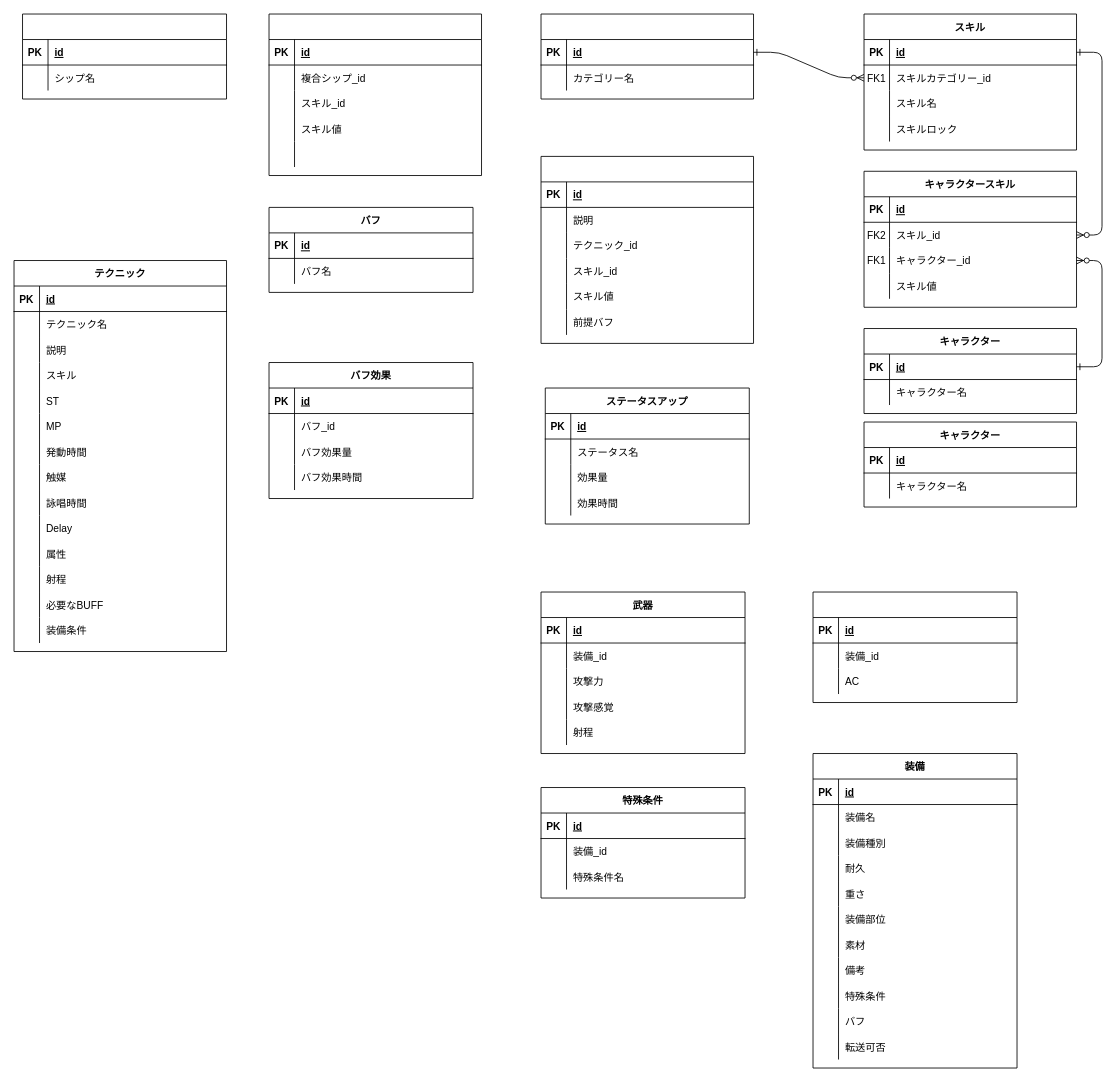
Some shapes in this 1116 by 1082 pixel diagram are drawn without their labels. The shapes that lost their labels are listed below. From the top down, each one's box as (x1, y1, x2, y2) in pixels, then its label:
(22, 13, 227, 99): 複合シップ
(540, 13, 754, 99): スキルカテゴリー
(268, 13, 482, 176): 複合シップ条件
(540, 156, 754, 343): テクニック条件
(812, 591, 1017, 703): 防具
